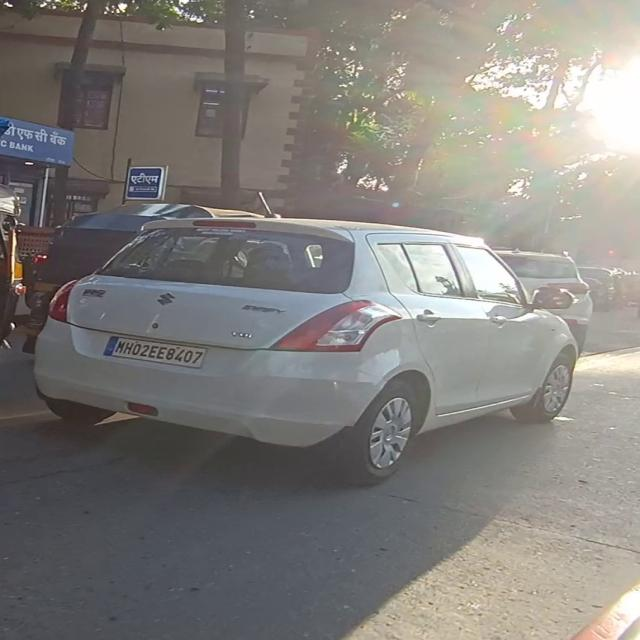licenseplate: (102, 334, 209, 369)
